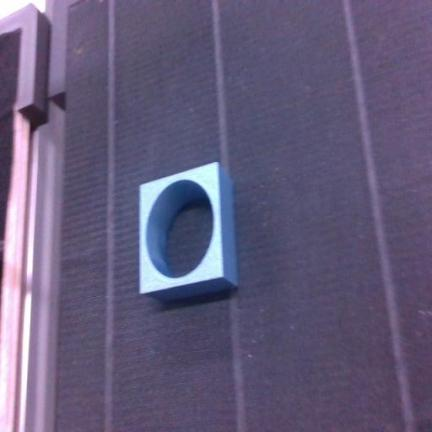square: (140, 163, 237, 300)
